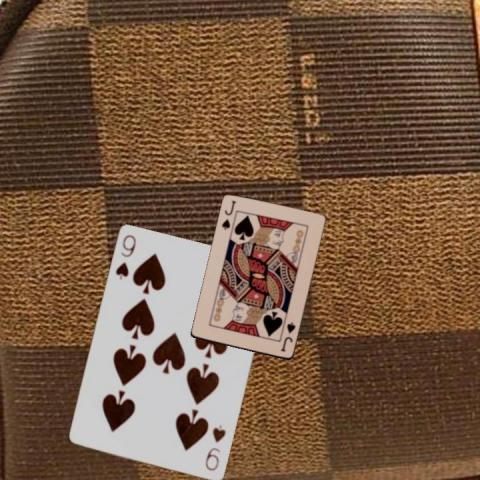9s: (202, 422, 227, 473), (113, 232, 138, 281)
Js: (277, 320, 297, 354), (219, 198, 238, 231)
